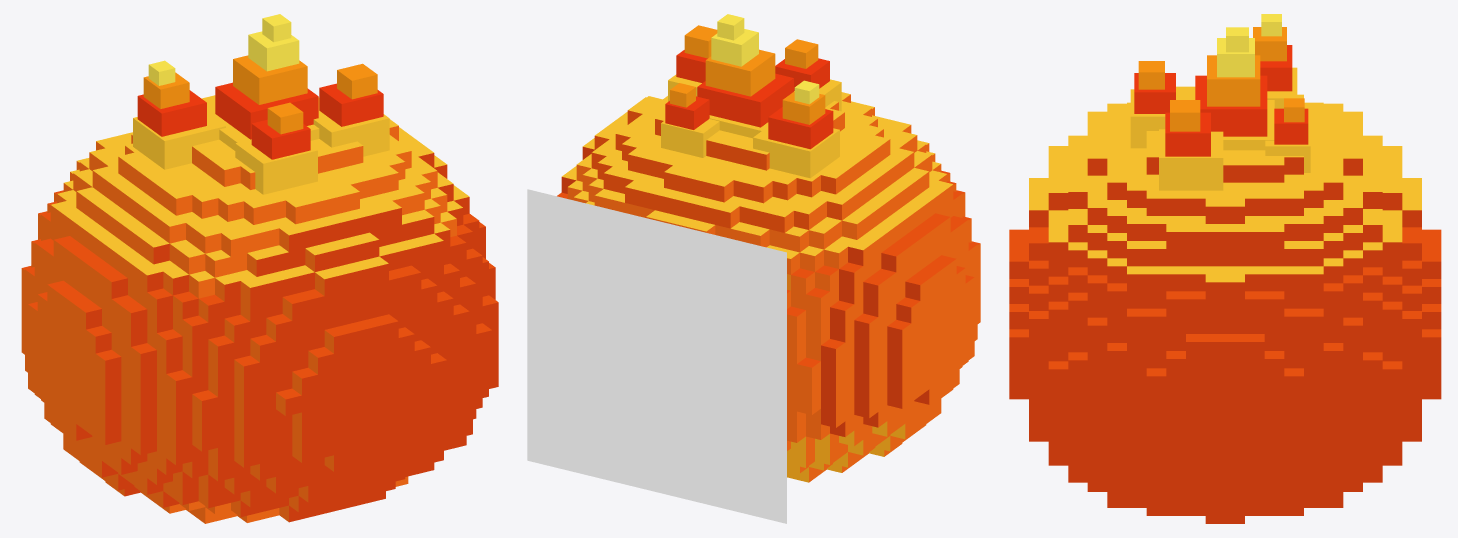
Rendered from slime_pyro.glb.
3 views of the same model, side by side, from view 1: azimuth 30°, elevation 25°; view 2: azimuth 150°, elevation 25°; view 3: azimuth 270°, elevation 25° (orthographic). The views are drawn at different scales.
Visible parts, largest first — view 1: Shell, PyroFlames; view 2: Shell, Face, PyroFlames; view 3: Shell, PyroFlames.
Part boxes in pixels (x1,y1,x2,y2): Shell: (21,95,498,523); PyroFlames: (133,14,389,194); Shell: (557,92,980,482); Face: (527,189,786,523); PyroFlames: (661,14,841,178); Shell: (1009,86,1441,523); PyroFlames: (1130,14,1310,190).
Size of the model in its own units: 1.2 by 1.26 by 1.15.
